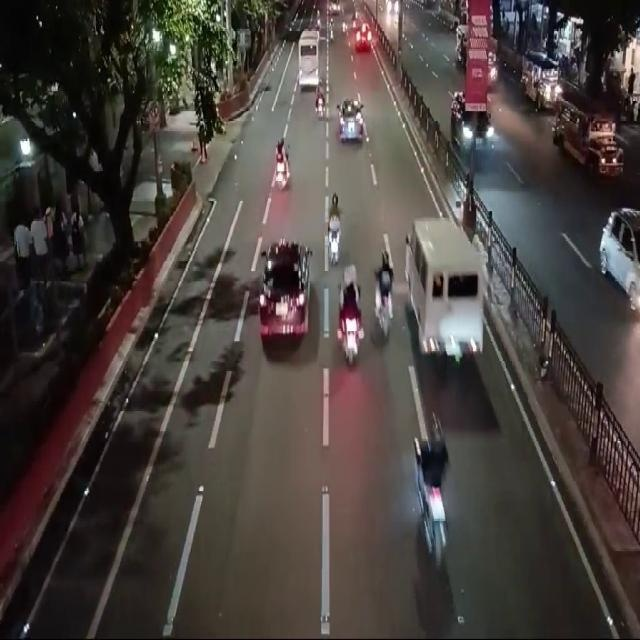bus: (295, 28, 321, 92)
car: (408, 213, 487, 362), (265, 237, 311, 346), (447, 95, 493, 161), (334, 90, 369, 147), (354, 19, 370, 53)
jeepney: (549, 88, 623, 183), (523, 50, 559, 116)
motorcycle: (410, 416, 451, 568), (333, 258, 370, 367), (372, 238, 401, 339), (324, 187, 341, 268), (272, 136, 292, 195), (314, 77, 330, 121)
